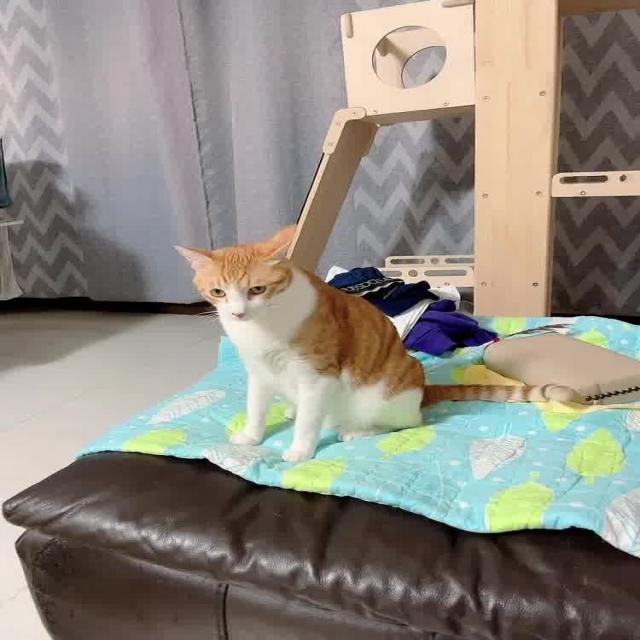cat: (171, 222, 593, 464)
